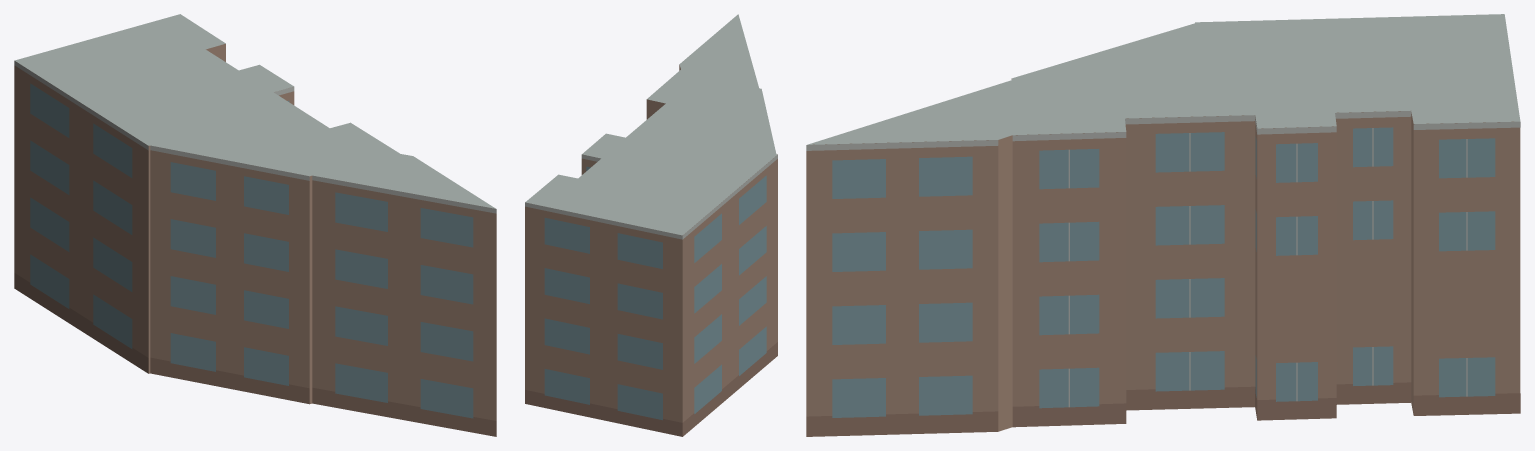
File: survey-upis-32611061.glb
The picture shows the model from 3 angles, left to right: view 1: azimuth 30°, elevation 25°; view 2: azimuth 150°, elevation 25°; view 3: azimuth 270°, elevation 25°; orthographic projection. The views are drawn at different scales.
Parts seen in each view (by area): view 1: survey-upis-32611061.tmp; view 2: survey-upis-32611061.tmp; view 3: survey-upis-32611061.tmp.
Part boxes in pixels (x1,y1,x2,y2): survey-upis-32611061.tmp: [14, 14, 496, 436]; survey-upis-32611061.tmp: [525, 14, 777, 436]; survey-upis-32611061.tmp: [806, 14, 1520, 436].
Bounding box in the file's own units: 11.41 × 11.85 × 26.28.
